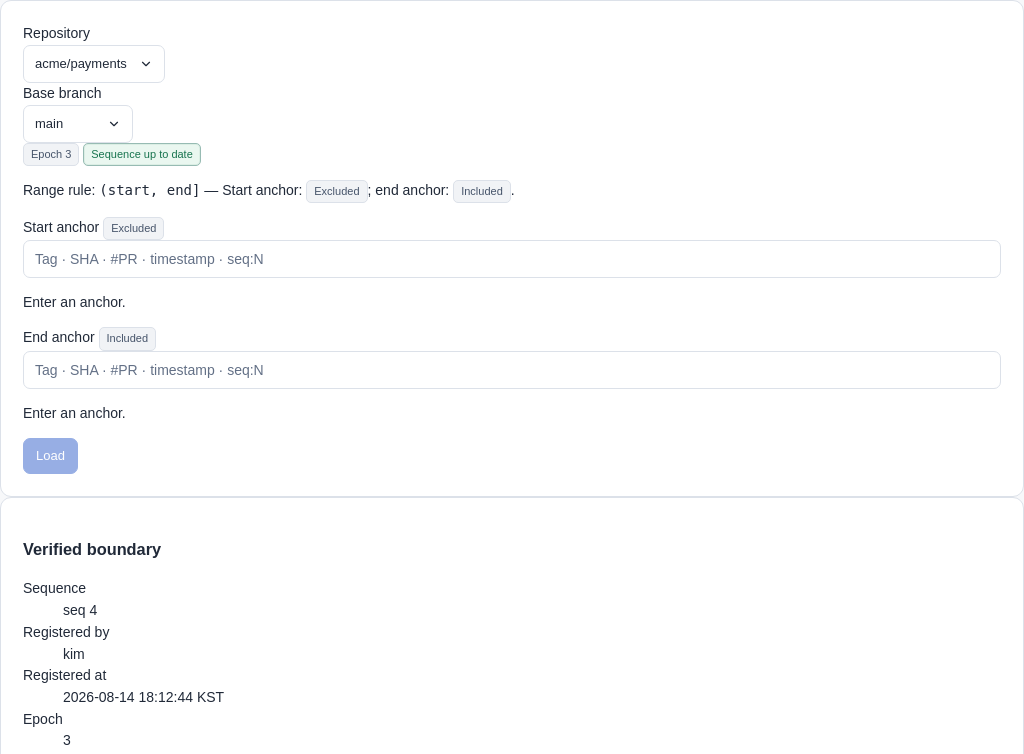
Test: 앵커 정규화 표시 (QA-W004-04·05·06) › 정규화 결과에 원본 표현·서수·SHA·에폭 넷이 보인다 (AC-5)
Type "seq:2" into the field with test id "anchor-from-input" at (512, 259), box left=35, top=241, right=989, bottom=277
Then press Enter
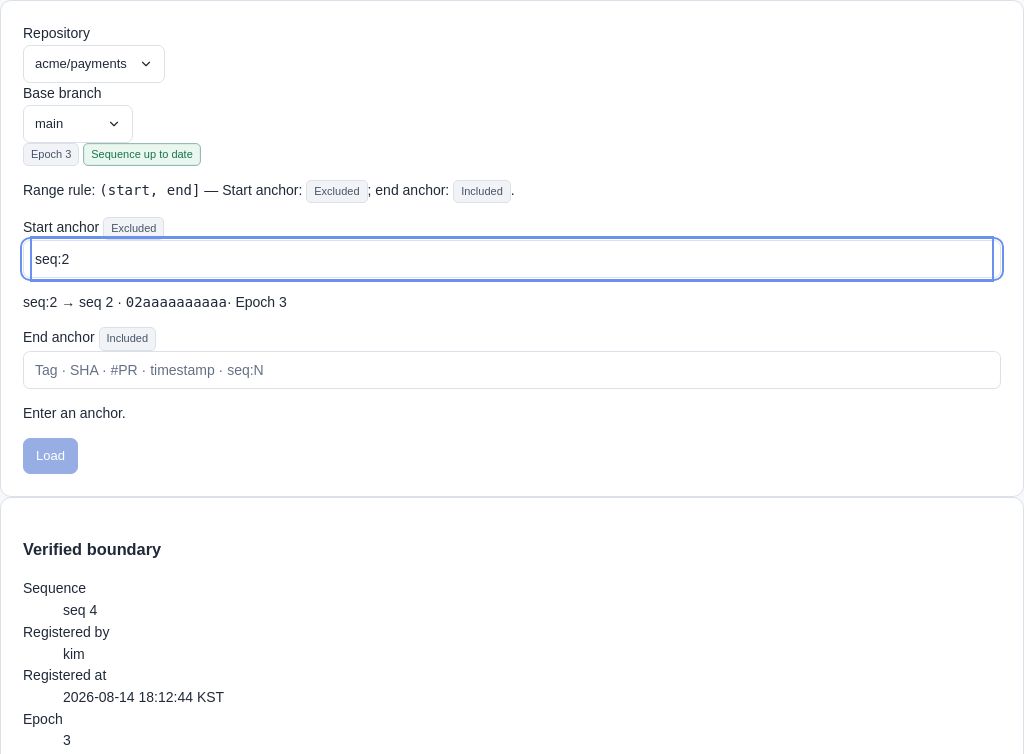
expect the element with test id "anchor-from-resolved" shows "seq:2": met, box left=23, top=294, right=57, bottom=310
expect the element with test id "anchor-from-resolved" shows "seq 2": met, box left=23, top=294, right=287, bottom=310
expect the element with test id "anchor-from-resolved" shows "Epoch 3": met, box left=227, top=294, right=287, bottom=310
